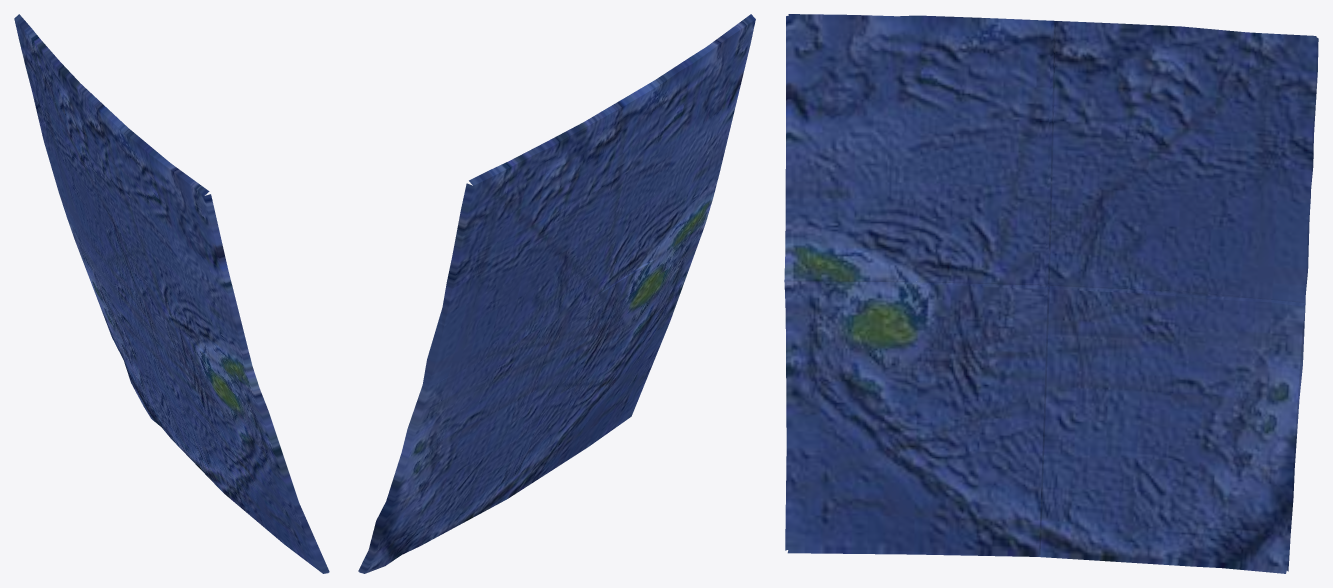
3 renders of one model, left to right at view 1: azimuth 30°, elevation 25°; view 2: azimuth 150°, elevation 25°; view 3: azimuth 270°, elevation 25°, orthographic. The views are drawn at different scales.
Bounding box in the file's own units: 495465 × 1208055 × 1235686.
Materials: 1 (1 with a texture image).
